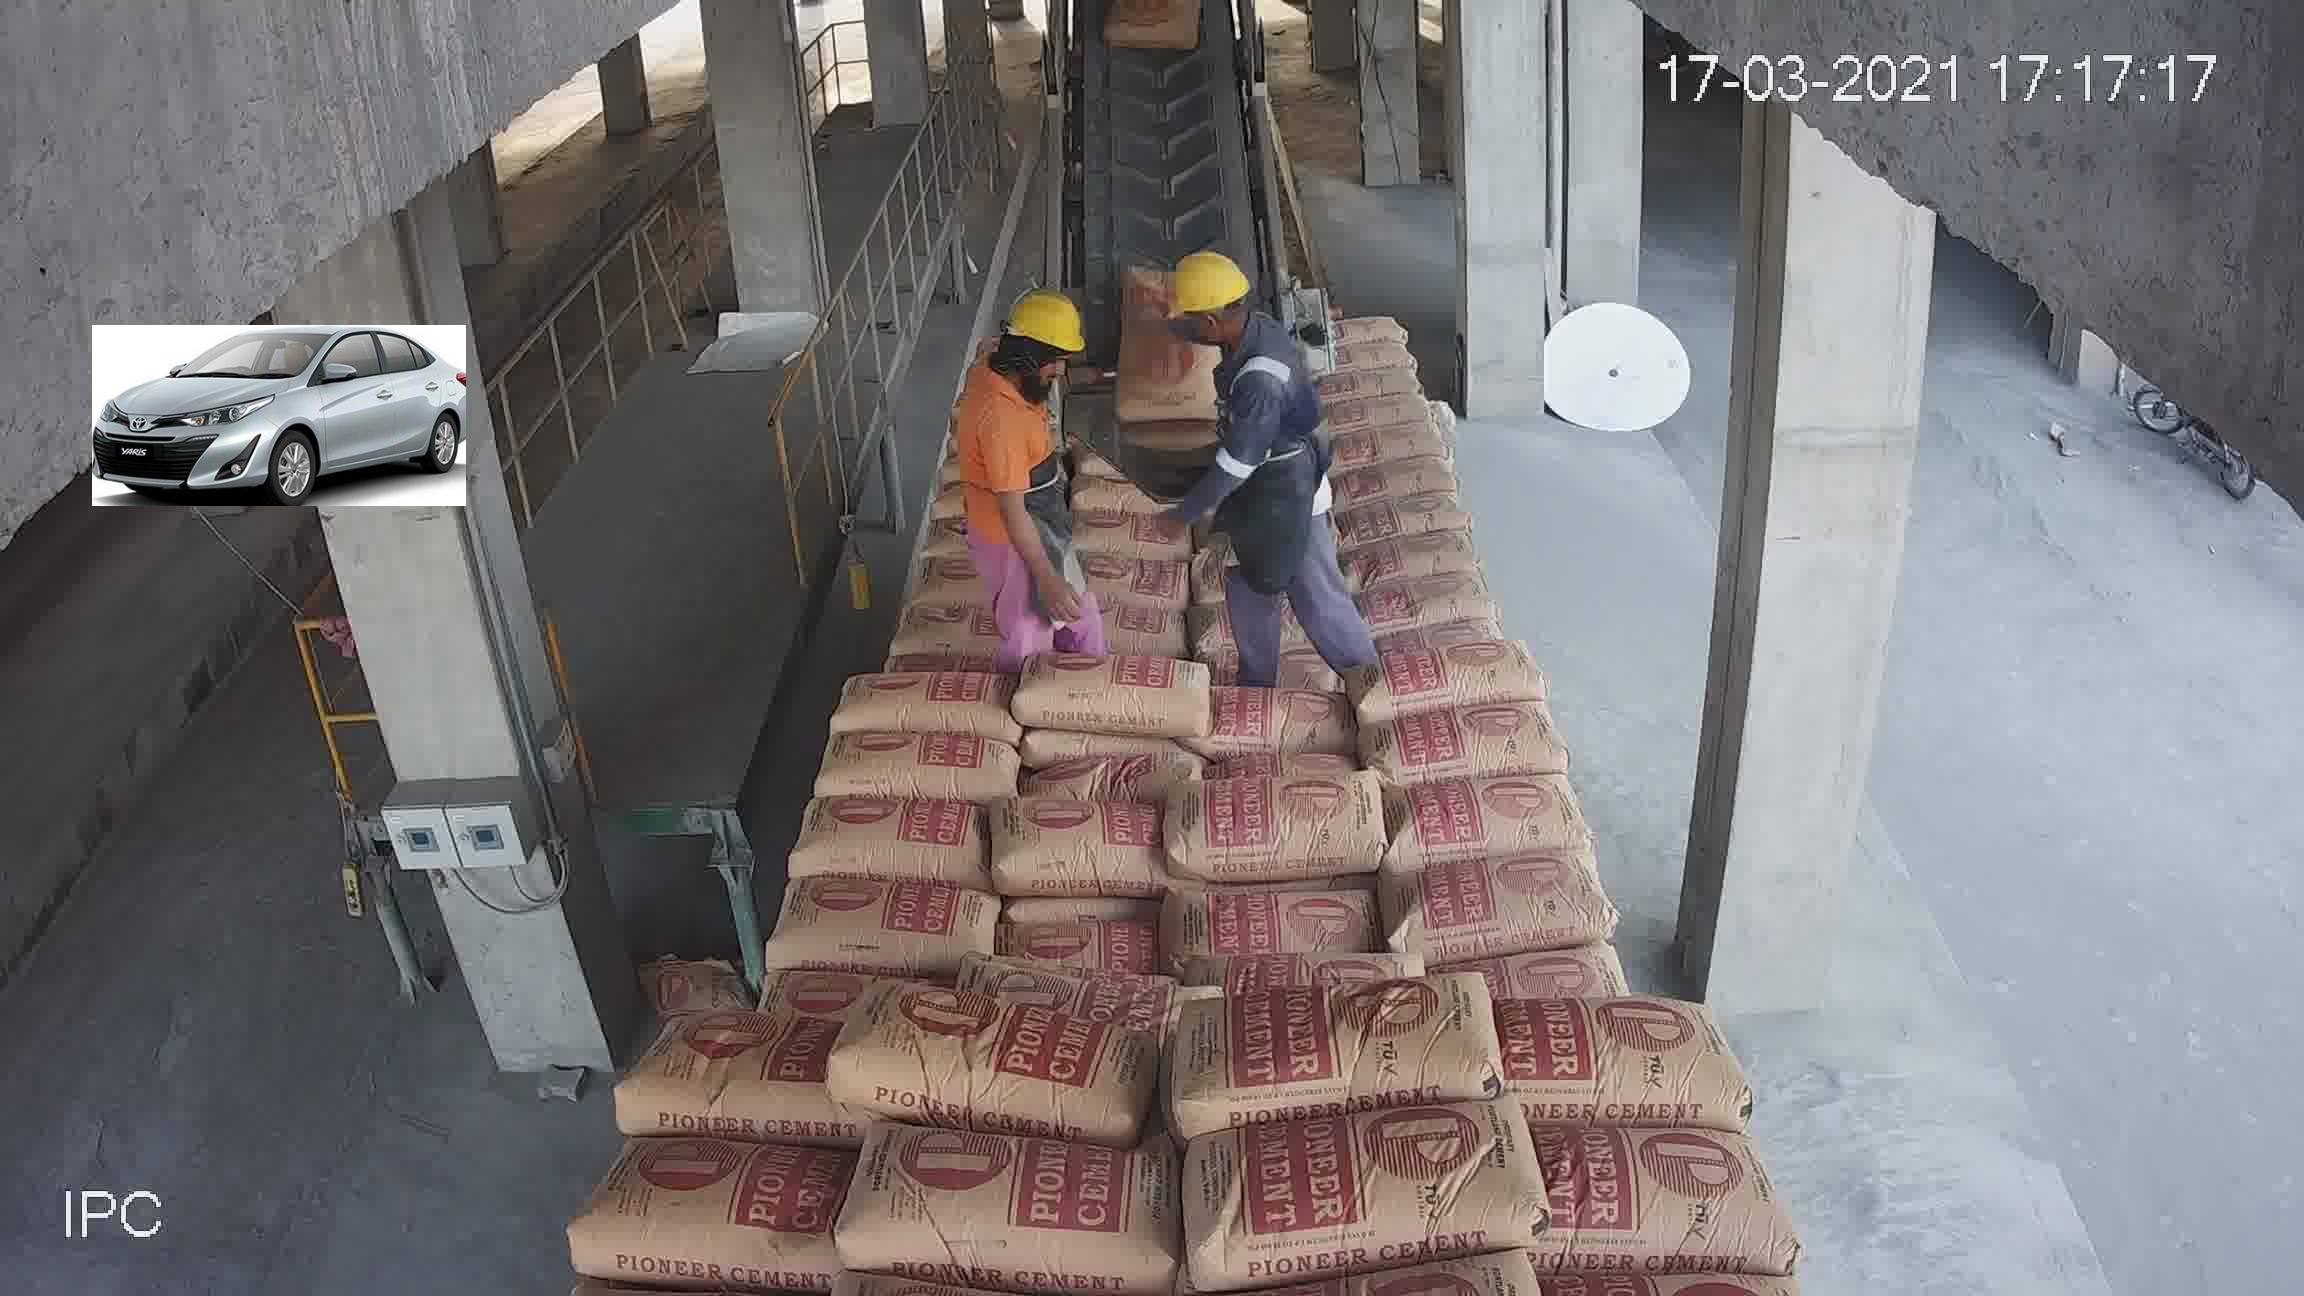bag: (1109, 277, 1220, 445)
bag_h: (1173, 1103, 1537, 1279), (1190, 967, 1521, 1128), (850, 1128, 1173, 1293), (805, 995, 1143, 1128), (574, 1136, 859, 1290), (1518, 1120, 1783, 1282), (1481, 994, 1733, 1131), (616, 1025, 843, 1146), (1176, 771, 1399, 881), (771, 878, 1000, 978), (1377, 861, 1601, 954), (1385, 769, 1587, 870), (1169, 880, 1377, 975), (794, 791, 987, 888), (1014, 649, 1223, 733), (995, 801, 1165, 899), (812, 731, 1025, 805), (1380, 693, 1551, 785), (1345, 639, 1554, 714), (829, 668, 1016, 745), (1002, 889, 1168, 973), (976, 964, 1196, 1017), (1207, 684, 1340, 766), (1340, 494, 1487, 554), (1334, 533, 1492, 589), (1359, 563, 1495, 623), (877, 603, 1014, 661), (1071, 543, 1201, 604), (1332, 415, 1454, 472), (1374, 609, 1513, 655), (1337, 464, 1457, 513), (1092, 604, 1198, 655), (1302, 362, 1434, 402), (1328, 394, 1434, 437), (1334, 307, 1416, 351), (1336, 340, 1416, 381)
belt: (1033, 27, 1291, 440)
